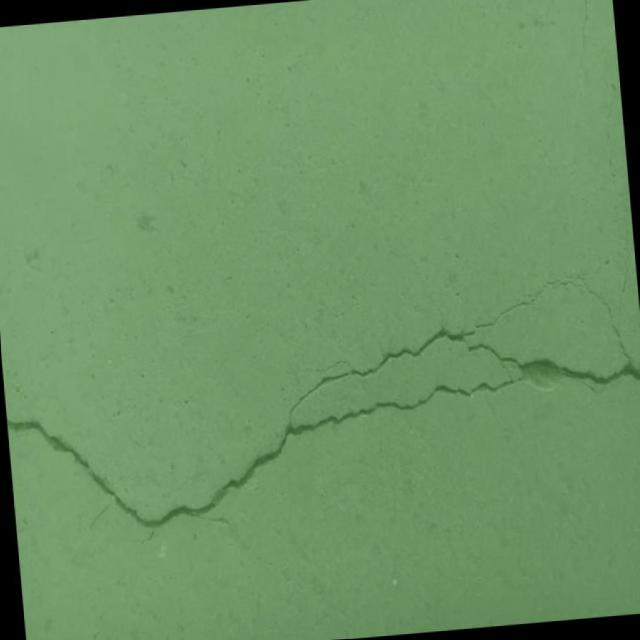crack: (0, 195, 640, 612), (572, 0, 599, 77), (602, 84, 624, 178), (83, 598, 122, 640)
